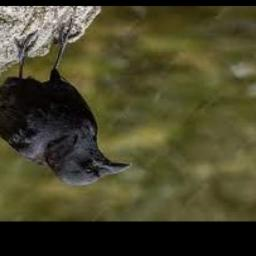Crow: (0, 22, 132, 185)
